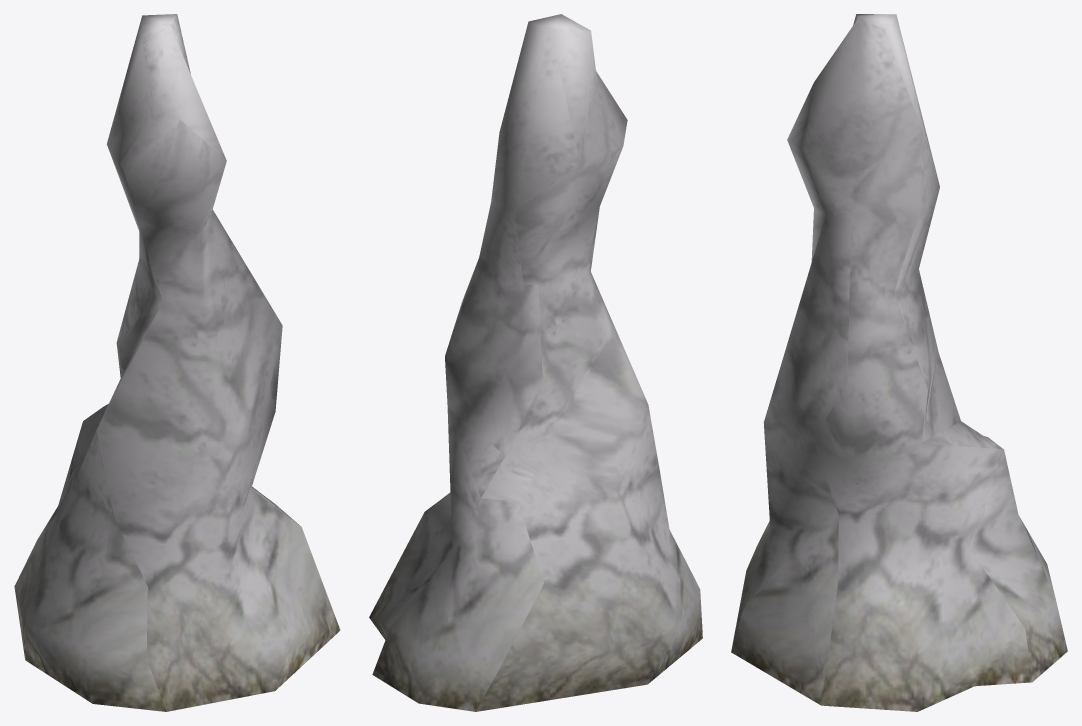
Rendered from general_obj_bigstone02_lod_01.glb.
3 renders of one model, left to right at view 1: azimuth 30°, elevation 25°; view 2: azimuth 150°, elevation 25°; view 3: azimuth 270°, elevation 25°, orthographic.
Parts seen in each view (by area): view 1: Sphere01; view 2: Sphere01; view 3: Sphere01.
Boxes of the visible parts, x1,y1,x2,y2 form: Sphere01: (14, 14, 340, 711); Sphere01: (369, 14, 702, 711); Sphere01: (731, 14, 1067, 711).
Size of the model in its own units: 21.02 by 42.85 by 21.23.
1 material, 1 textured.
